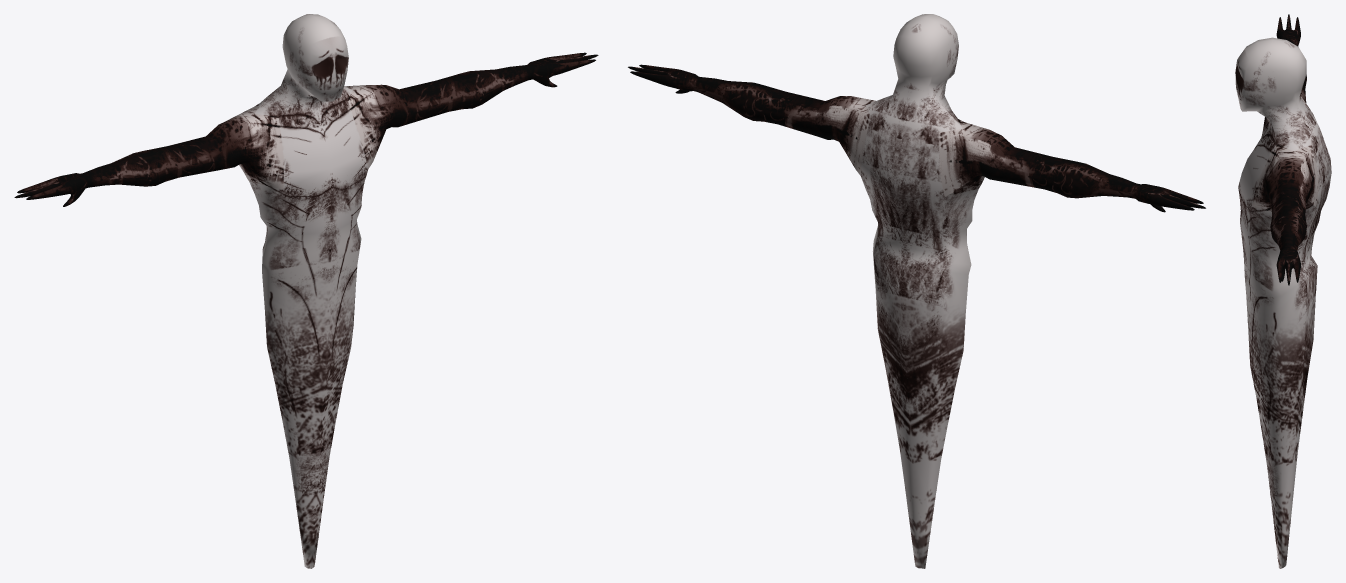
The model's file is TombSoul-TPose.glb.
3 renders of one model, left to right at view 1: azimuth 30°, elevation 25°; view 2: azimuth 150°, elevation 25°; view 3: azimuth 270°, elevation 25°, orthographic. The views are drawn at different scales.
Parts seen in each view (by area): view 1: Cylinder.001; view 2: Cylinder.001; view 3: Cylinder.001.
Part boxes in pixels (x1,y1,x2,y2): Cylinder.001: (14,14,598,568); Cylinder.001: (628,14,1205,568); Cylinder.001: (1235,14,1331,568).
Size of the model in its own units: 2.06 by 1.87 by 0.3087.
Materials: 1 (1 with a texture image).
